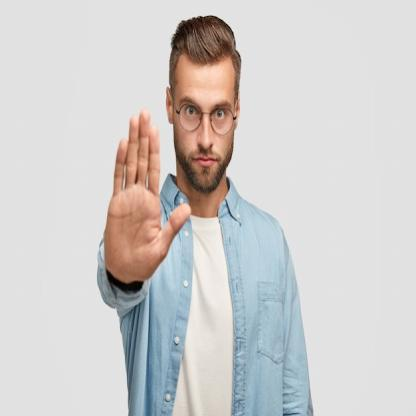stop: (105, 107, 194, 284)
